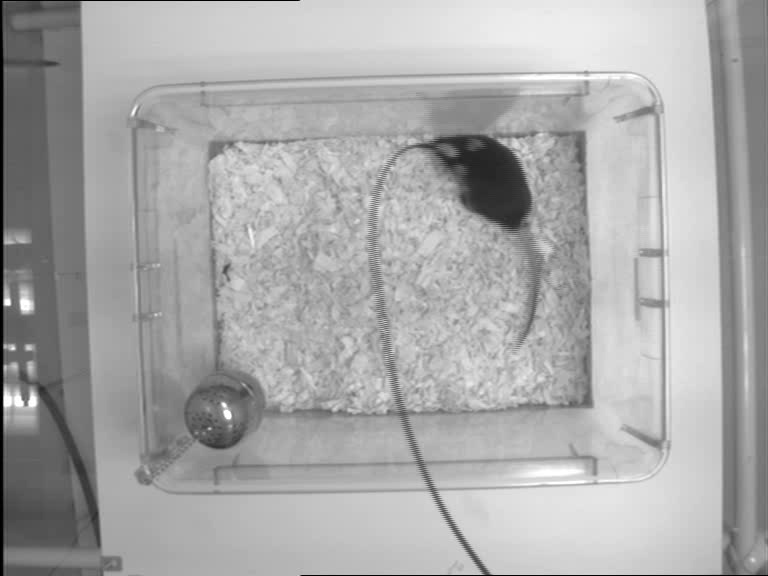mice: (424, 133, 542, 353)
